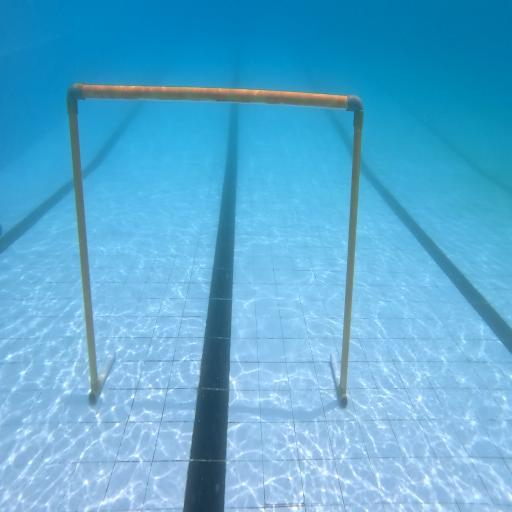gate: (67, 84, 363, 408)
